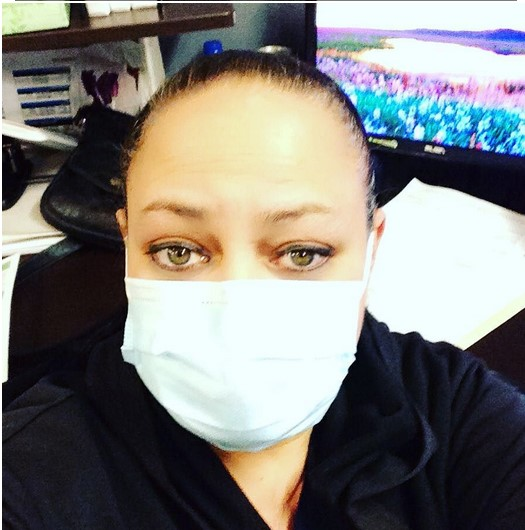face_with_mask: (112, 57, 390, 460)
